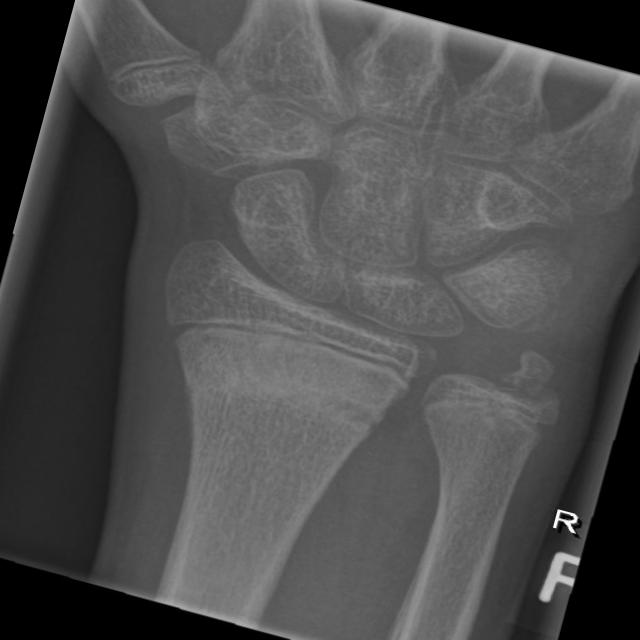fracture: (148, 276, 434, 412), (173, 338, 406, 460), (398, 361, 575, 466)
